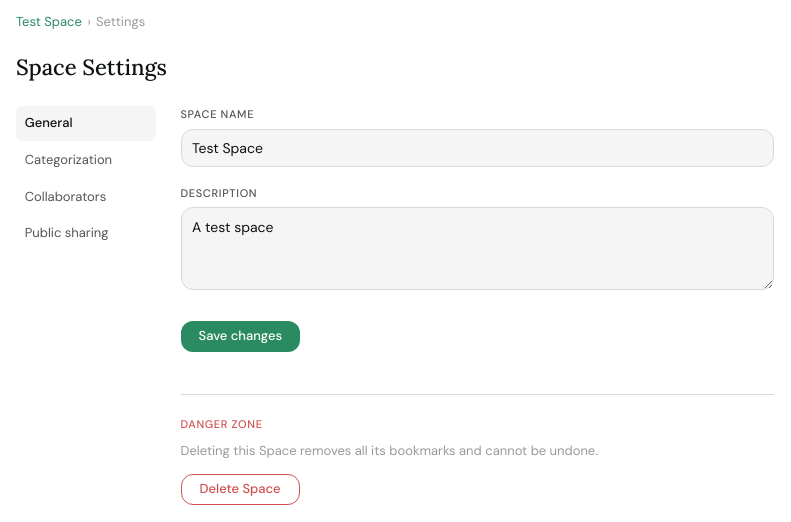
Test case: SpaceSettings › Sharing section › Copy button writes share link to clipboard and shows Copied!
Step 1. Click the button "Public sharing" → [86, 234], box [16,216,156,251]
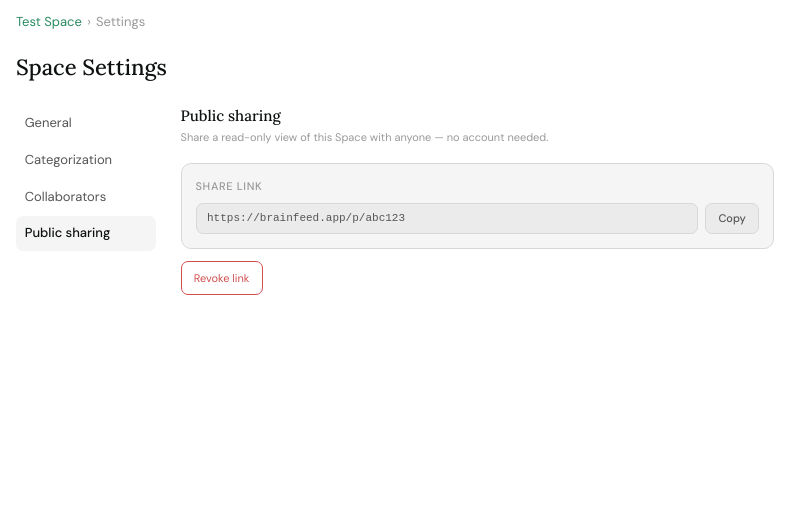
Step 2. Click the button "Copy" → [732, 218], box [705,203,759,234]
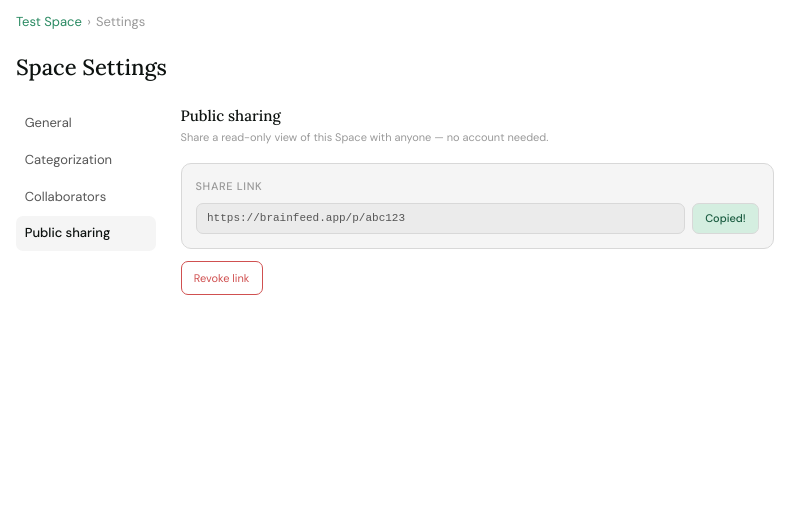
Result: the button "Copied!" is shown at [692,203,759,234]
